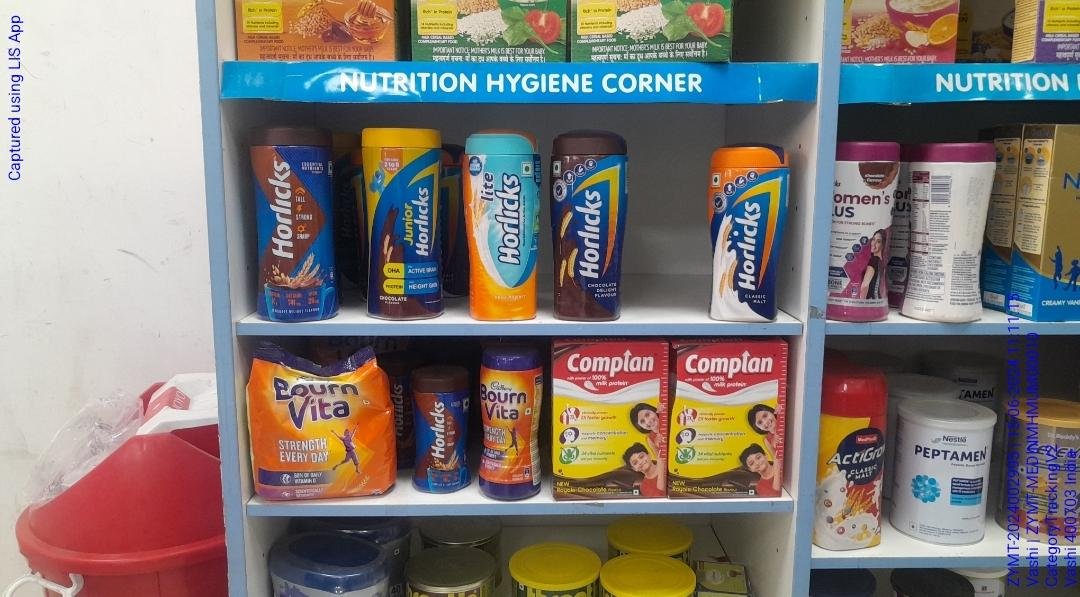BOURN_VITA_200_G_JAR: (477, 349, 540, 500)
BOURN_VITA_500_G_POUCH: (245, 349, 392, 498)
COMPLAN_CHOCOLATE_500_GMS_PACK: (670, 344, 783, 496), (552, 343, 663, 497)
HORLICKS_LITE_REGULAR_MALT_500_GM_JAR: (465, 131, 535, 322)
HORLICK_CHOCOLATE_200_G_JAR: (406, 367, 471, 494)
HORLICK_CHOCOLATE_500_G_JAR: (247, 127, 335, 324)
HORLICK_CLASSIC_MALT_500_G_JAR: (708, 144, 779, 321)
